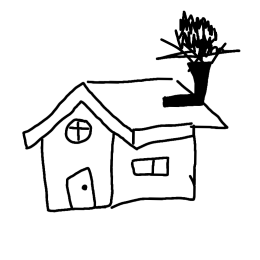closed_window: (126, 151, 180, 184), (61, 115, 96, 148)
door: (58, 166, 102, 212)
roof: (13, 73, 229, 149)
smoking_chimney: (147, 6, 248, 119)
wall: (39, 127, 116, 216)
